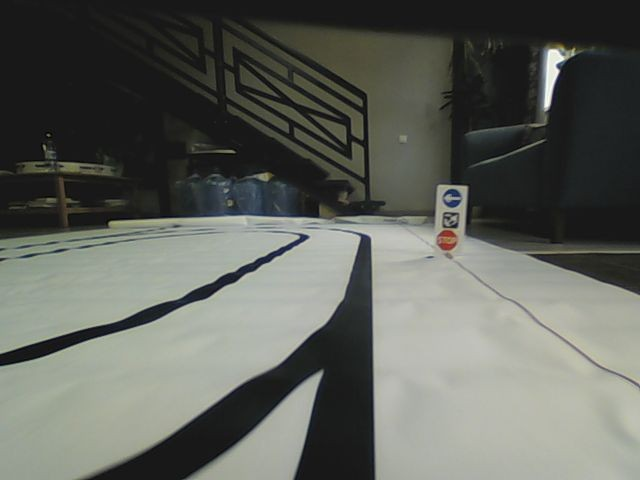Stop: (436, 228, 459, 251)
